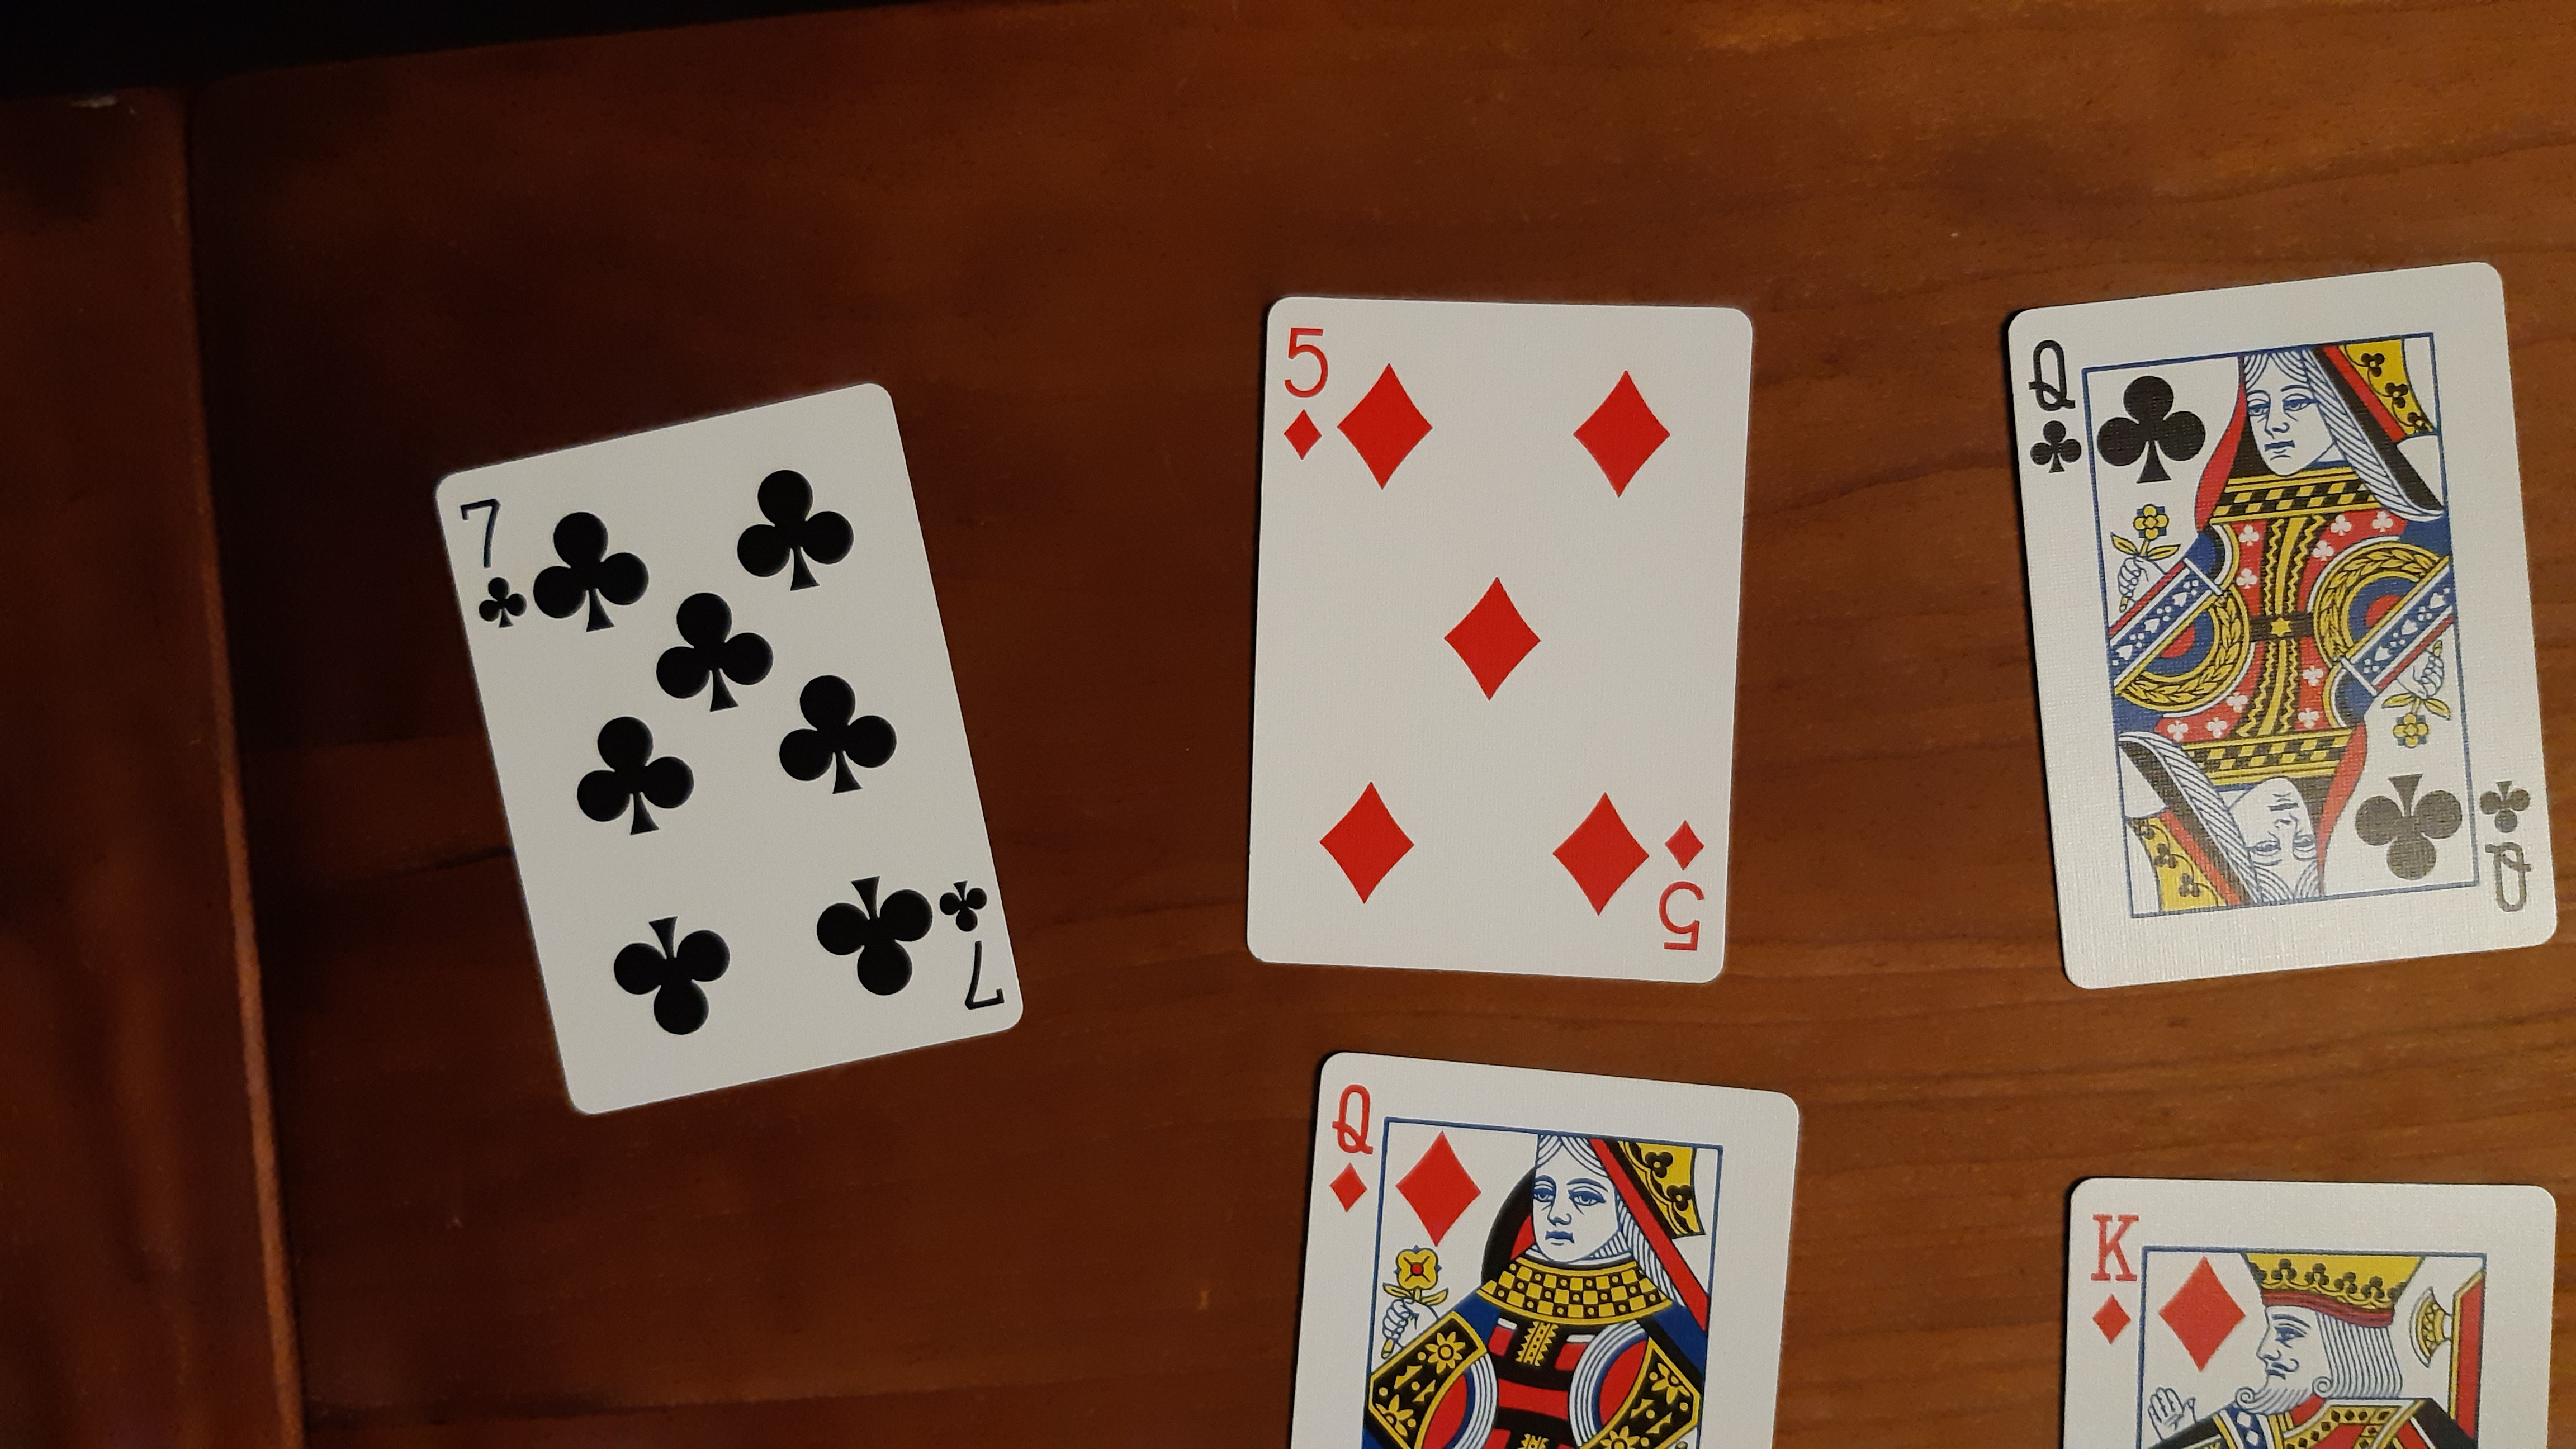Black_Club_7: (448, 490, 536, 646), (938, 874, 1014, 1019)
Black_Club_Queen: (2017, 331, 2089, 479), (2473, 768, 2539, 916)
Red_Diamond_5: (1276, 315, 1330, 465), (1656, 819, 1713, 962)
Red_Diamond_King: (2082, 1203, 2146, 1352)
Red_Diamond_Queen: (1325, 1076, 1378, 1224)
